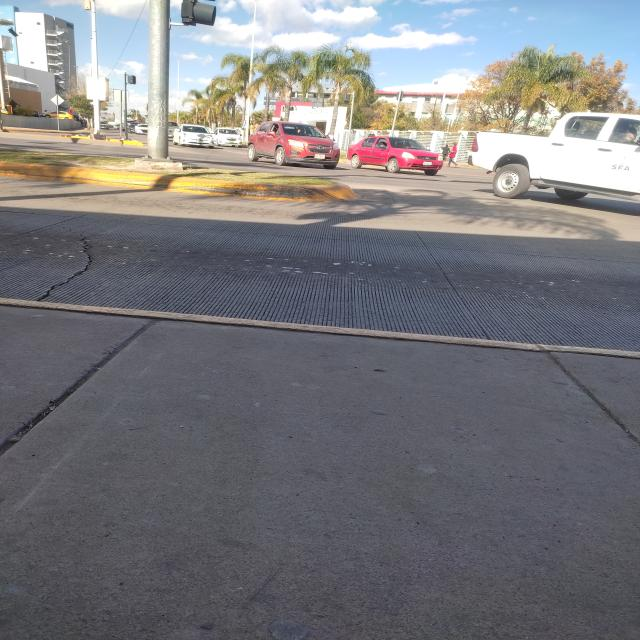3: (442, 136, 470, 171)
Auto: (465, 106, 640, 233), (248, 114, 344, 176), (350, 129, 445, 191), (163, 118, 215, 149), (209, 122, 248, 156), (35, 104, 81, 124), (121, 122, 159, 138)
